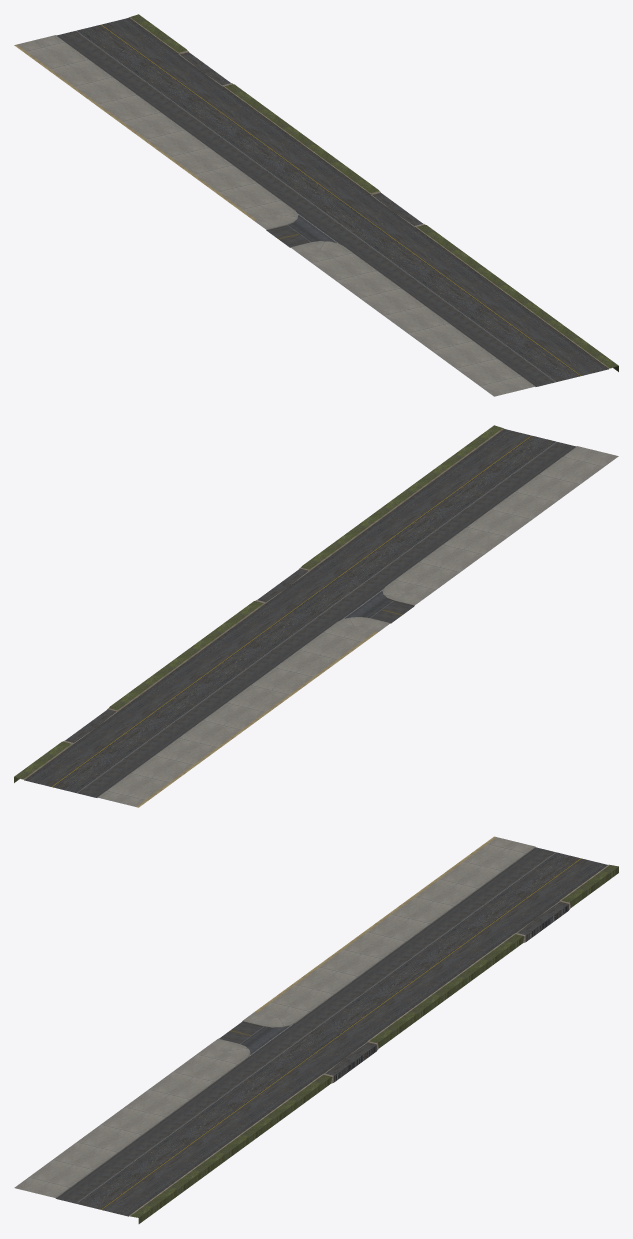
Rendered from vegaseroad139.obj.
3 renders of one model, top to bottom at view 1: azimuth 30°, elevation 25°; view 2: azimuth 150°, elevation 25°; view 3: azimuth 330°, elevation 25°, orthographic.
Parts seen in each view (by area): view 1: VegasEroad139; view 2: VegasEroad139; view 3: VegasEroad139.
Part boxes in pixels (x1,y1,x2,y2): VegasEroad139: [14, 14, 618, 396]; VegasEroad139: [14, 425, 618, 807]; VegasEroad139: [14, 836, 618, 1223].
Size of the model in its own units: 30 by 1.77 by 200.
Materials: 14 (14 with a texture image).
